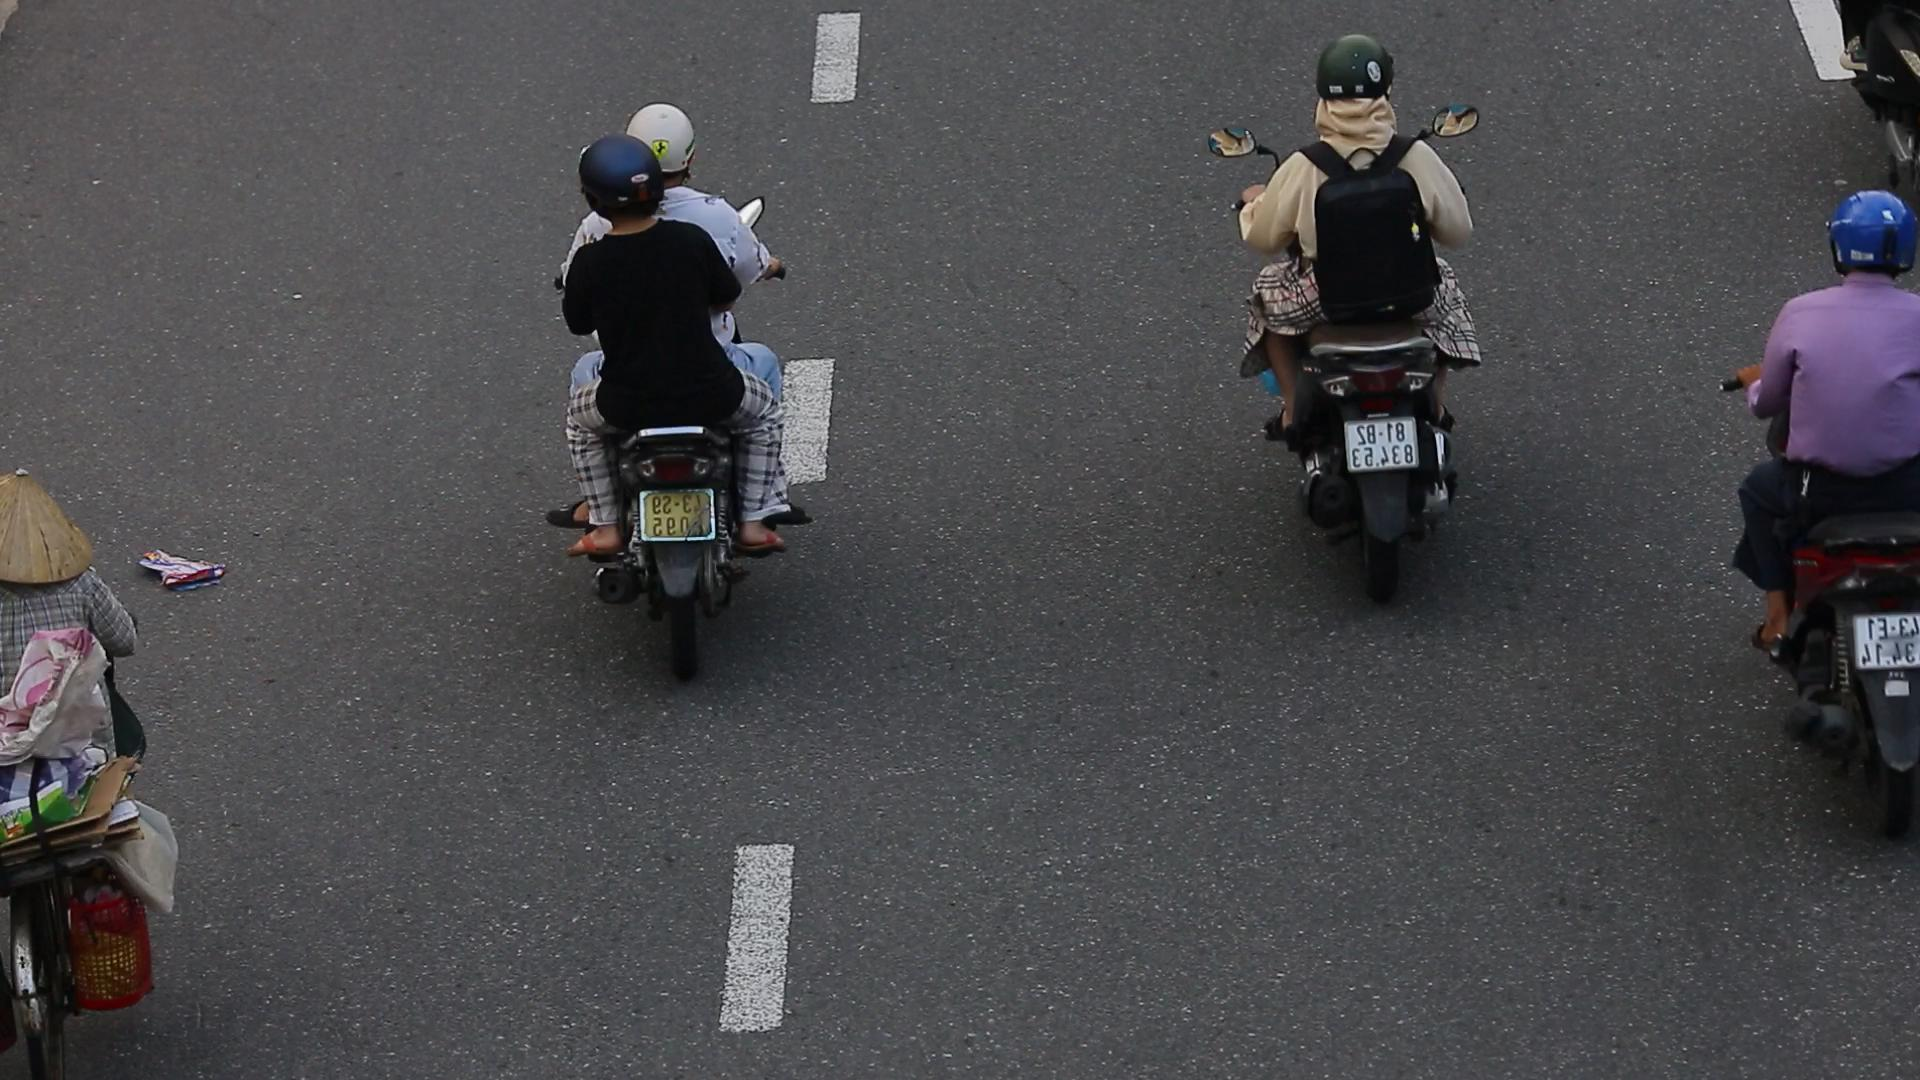motobike: (1230, 24, 1511, 599), (559, 69, 820, 670)
